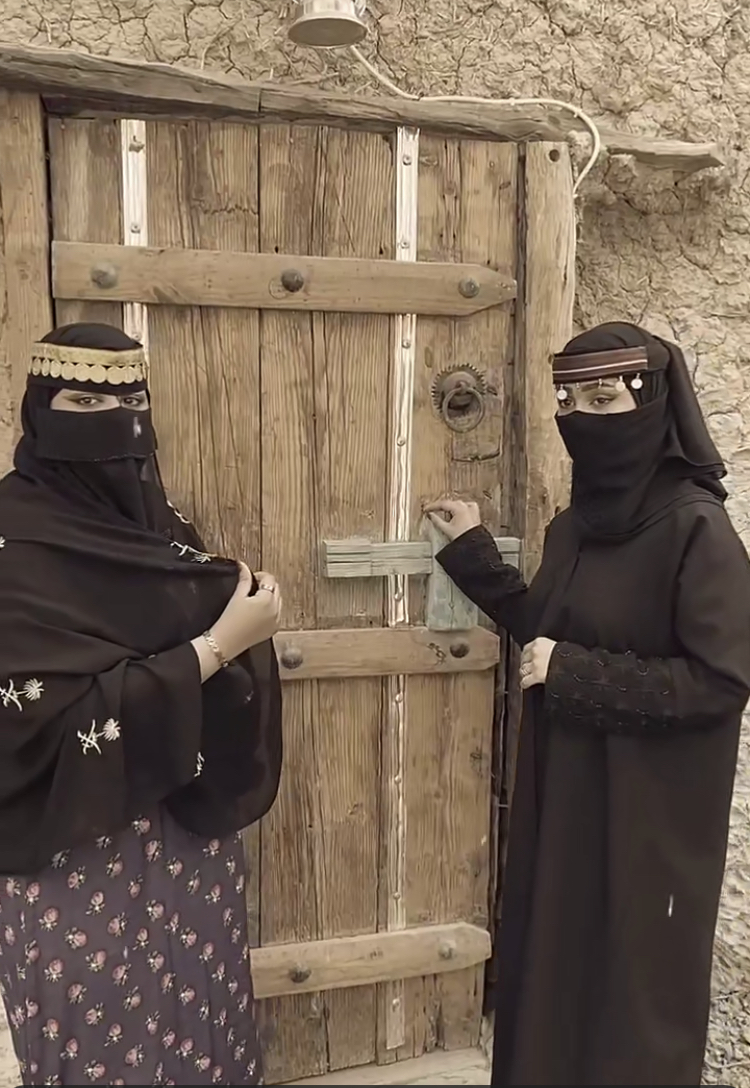Saudi_Founding_Day: (416, 317, 741, 1085), (1, 319, 294, 1087)
